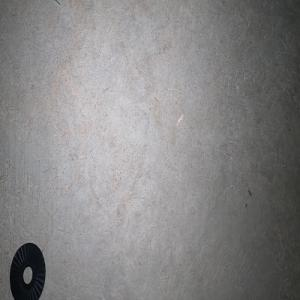Washer: (9, 242, 45, 300)
